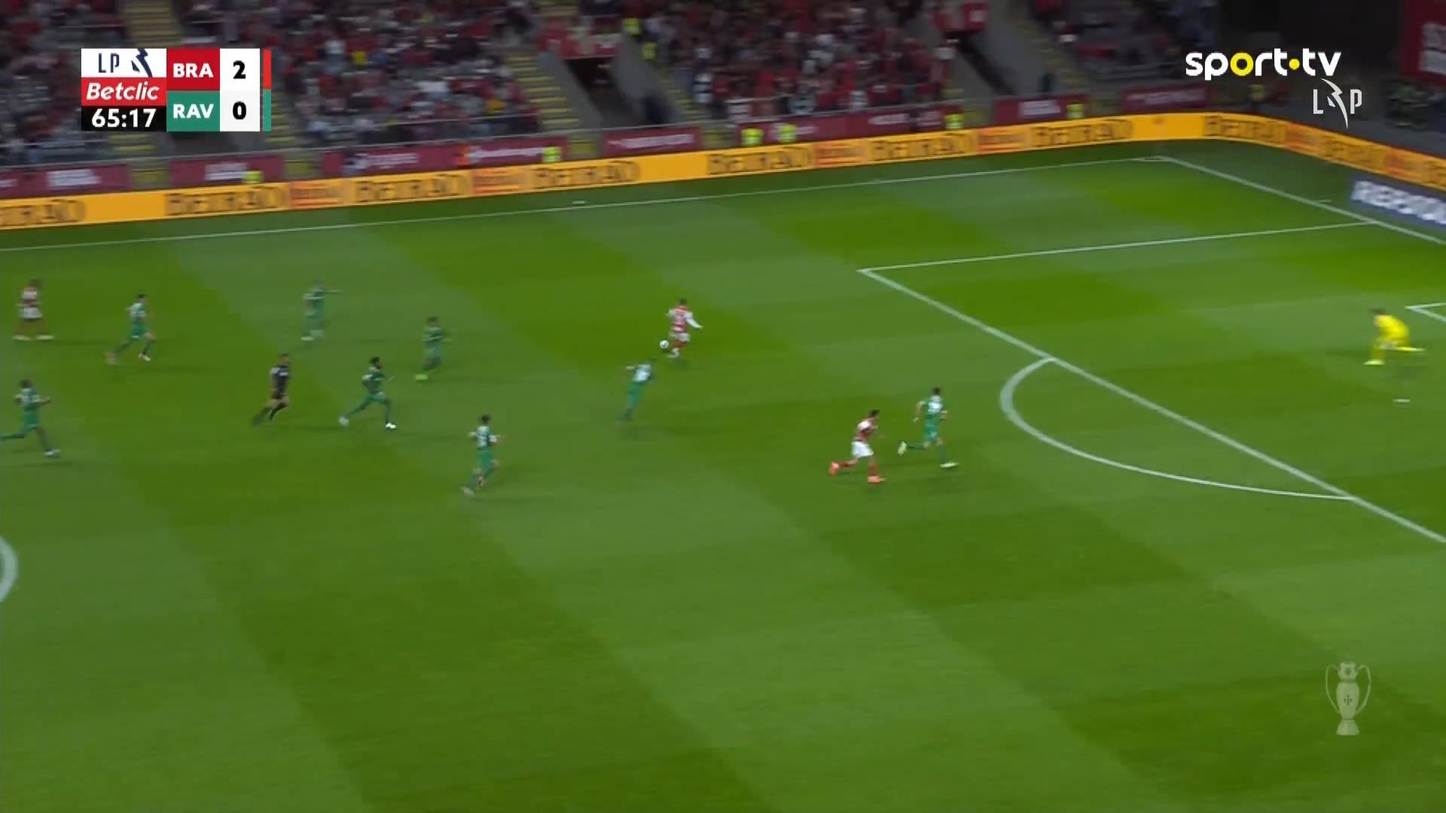ball: (658, 339, 669, 349)
goalkeeper: (1362, 305, 1425, 366)
player: (895, 385, 959, 469), (0, 378, 60, 457), (337, 355, 397, 430), (827, 407, 886, 483), (104, 292, 156, 365), (461, 413, 502, 496), (11, 276, 54, 341), (659, 297, 703, 358), (616, 357, 656, 423), (299, 278, 339, 341), (413, 314, 450, 381)
referee: (249, 352, 292, 426)
